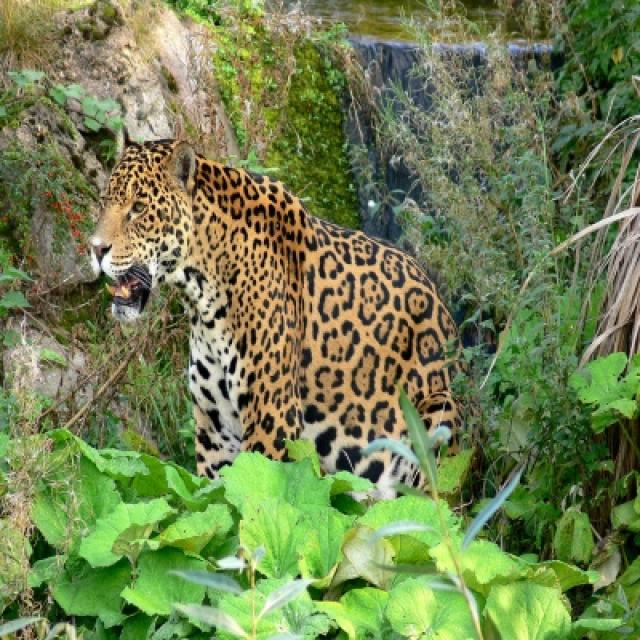Jaguar: (88, 139, 462, 493)
